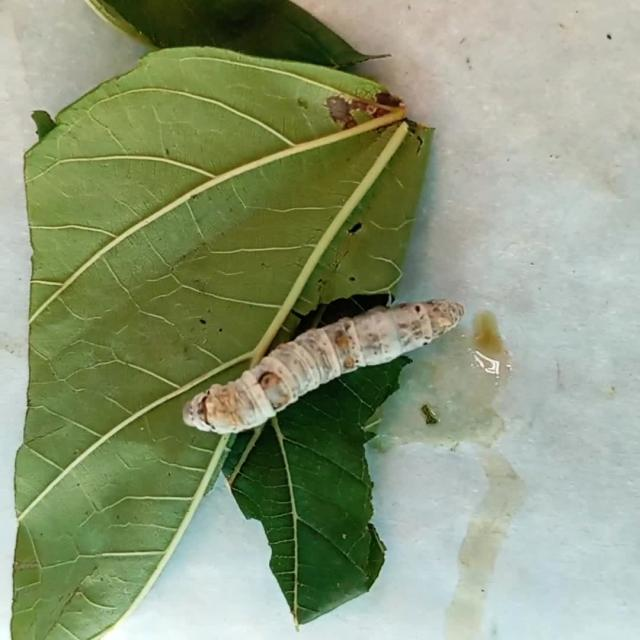Grasserie: (172, 272, 556, 470)
